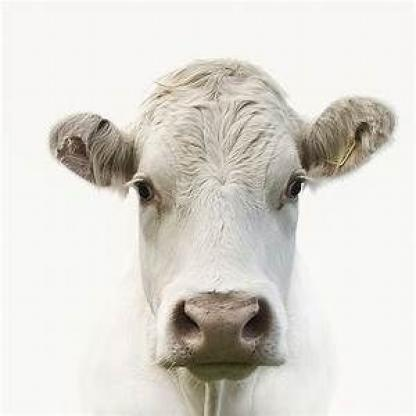lower: (204, 370, 247, 379)
mouth: (152, 281, 288, 386)
upper: (210, 314, 234, 331)
